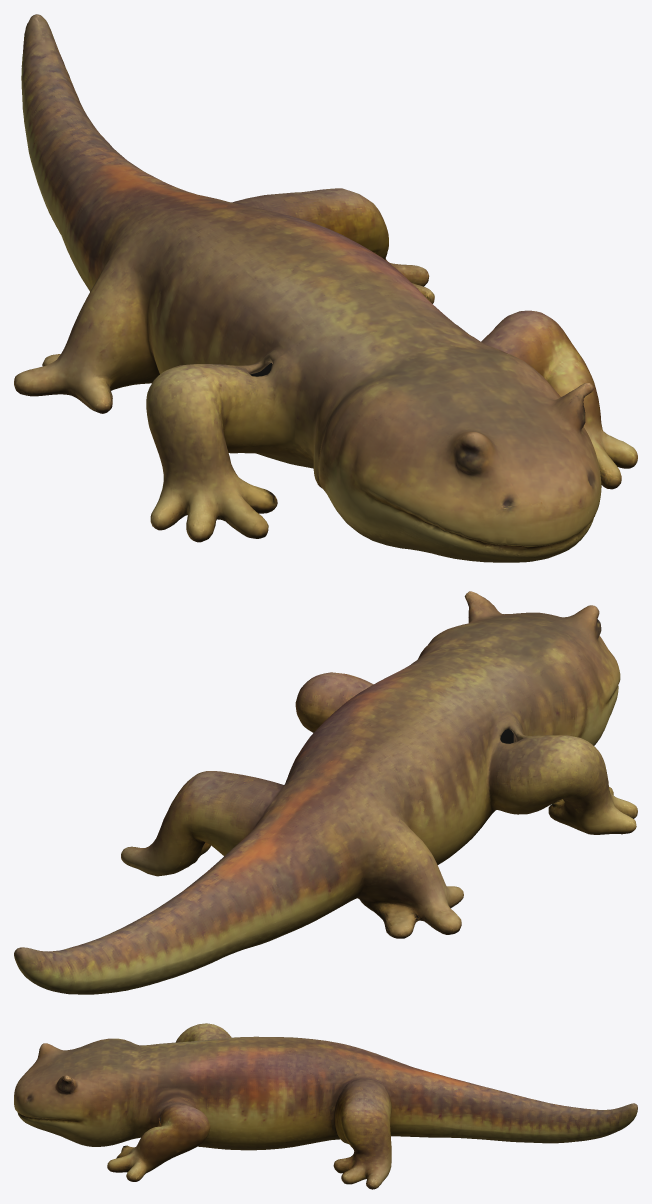
3 views of the same model, one above another, from view 1: azimuth 30°, elevation 25°; view 2: azimuth 150°, elevation 25°; view 3: azimuth 270°, elevation 25° (orthographic). The views are drawn at different scales.
Parts seen in each view (by area): view 1: world; view 2: world; view 3: world.
Boxes of the visible parts, <box> form: world: <box>14,14,637,562</box>; world: <box>14,591,637,994</box>; world: <box>14,1023,637,1189</box>.
Bounding box in the file's own units: 0.0872 × 0.0336 × 0.2.
1 material, 1 textured.
